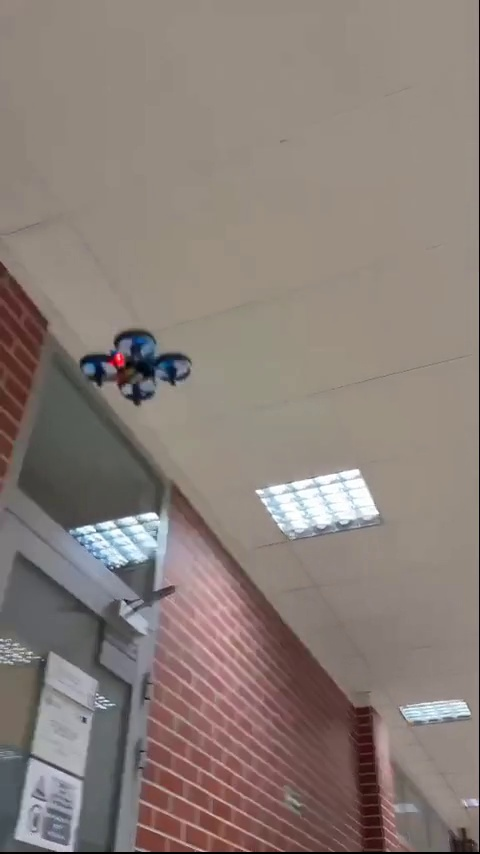drone: (86, 336, 191, 408)
